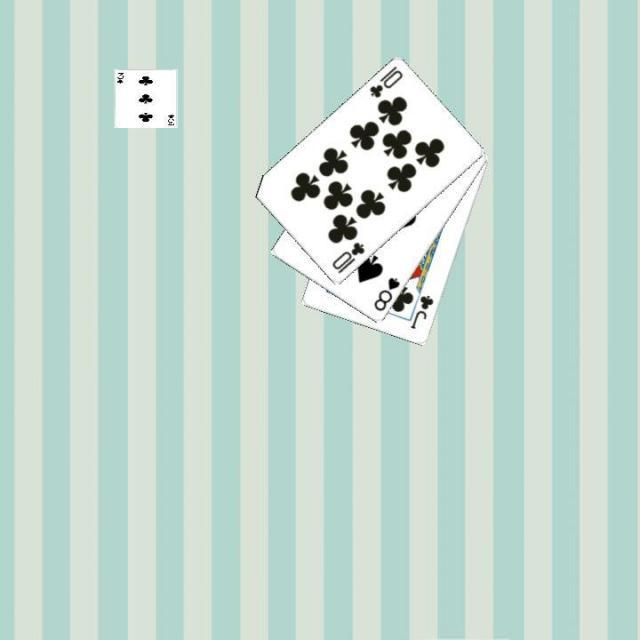10C: (328, 238, 366, 276), (366, 62, 404, 100)
8S: (370, 274, 402, 314)
JC: (408, 292, 436, 332)
